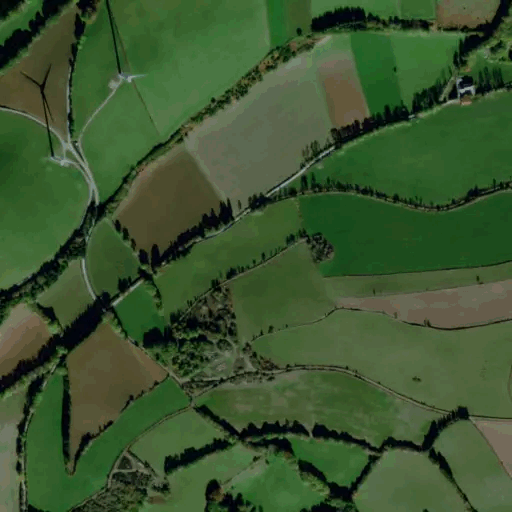wt: (20, 42, 148, 183)
